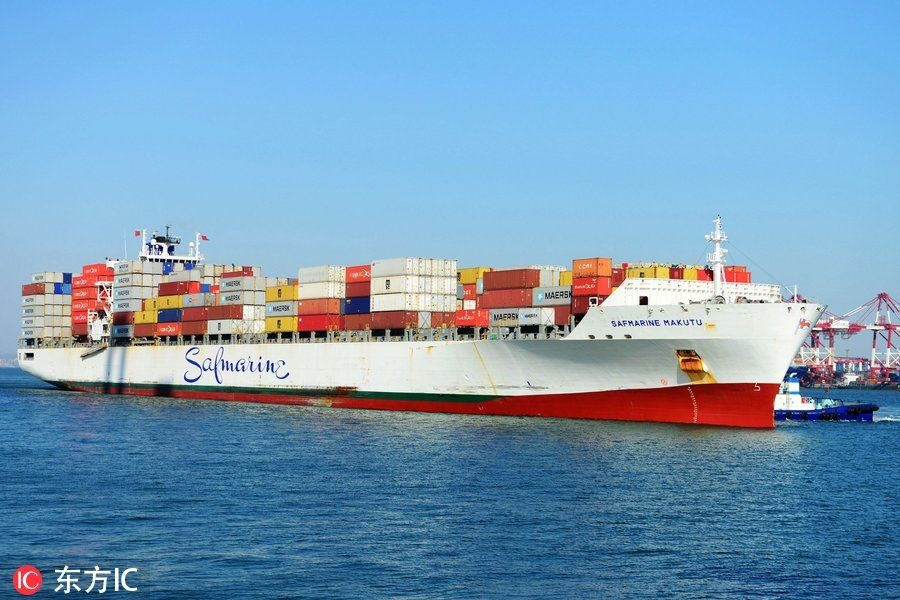Cargoship: (9, 214, 822, 445)
otherboat: (771, 372, 873, 433)
